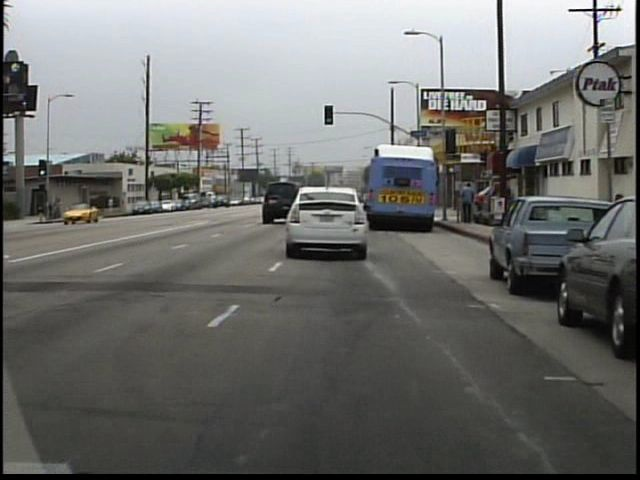person: (456, 181, 476, 227), (105, 192, 119, 218)
